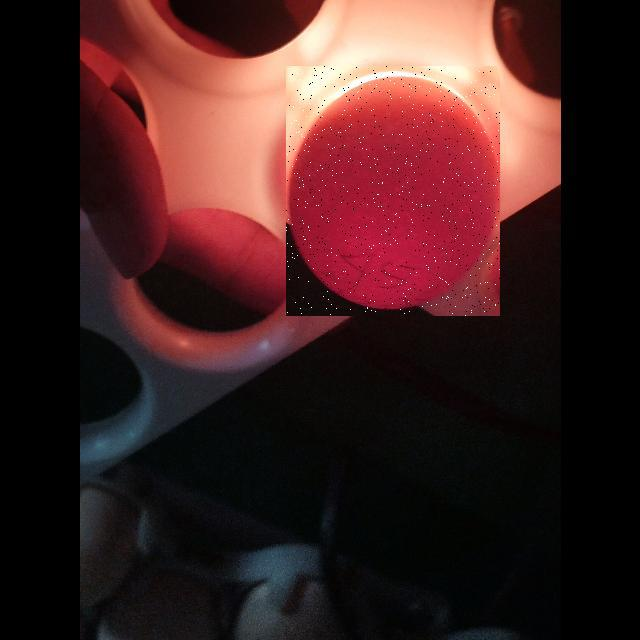Infertile: (286, 66, 500, 316)
